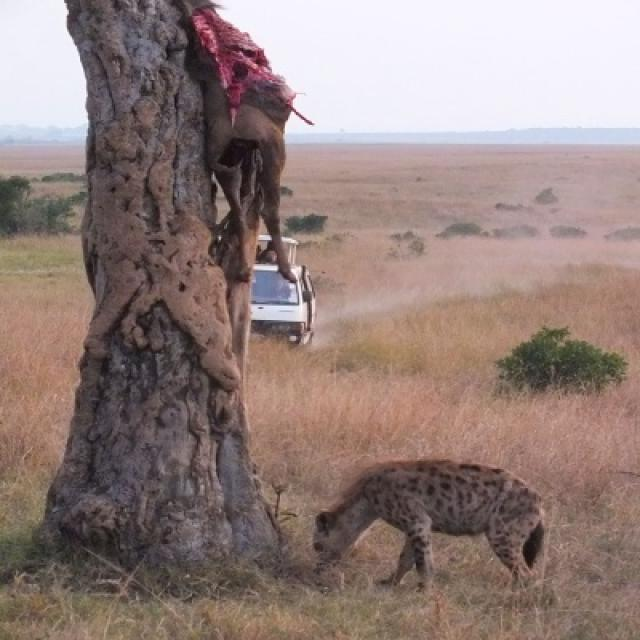hyena: (315, 461, 547, 590)
